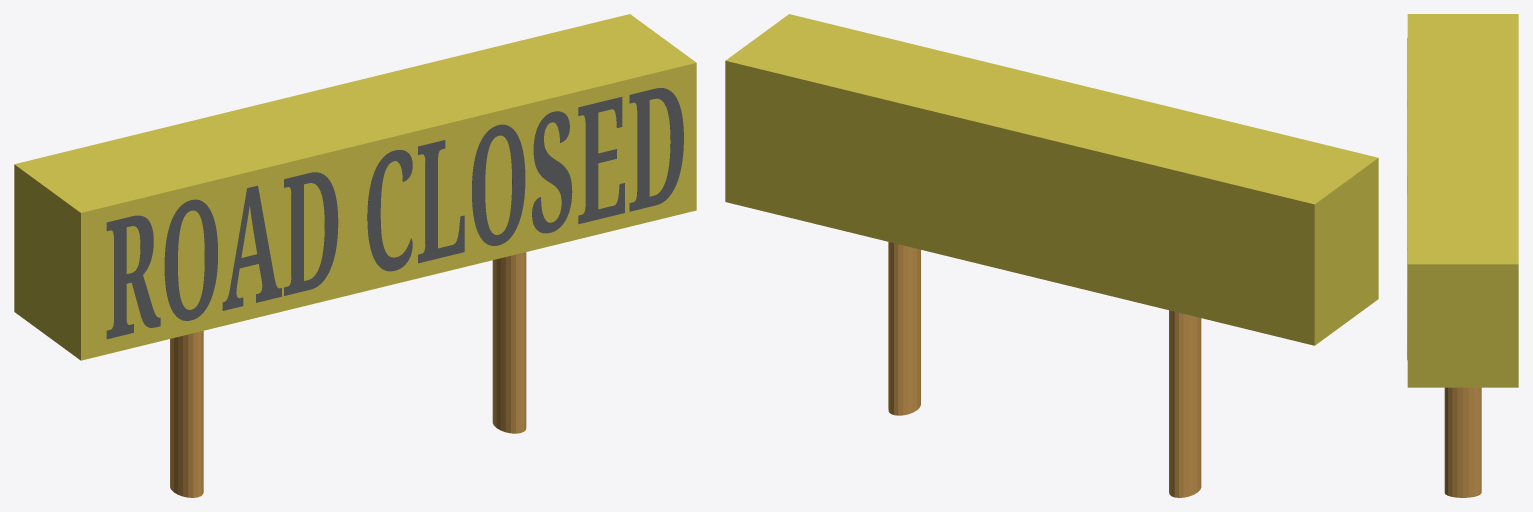
Rendered from obs.glb.
3 renders of one model, left to right at view 1: azimuth 30°, elevation 25°; view 2: azimuth 150°, elevation 25°; view 3: azimuth 270°, elevation 25°, orthographic. The views are drawn at different scales.
Visible parts, largest first — view 1: Mesh_Mesh_head_geo.001_lambert2SG.001; view 2: Mesh_Mesh_head_geo.001_lambert2SG.001; view 3: Mesh_Mesh_head_geo.001_lambert2SG.001.
Part boxes in pixels (x1,y1,x2,y2): Mesh_Mesh_head_geo.001_lambert2SG.001: [14, 14, 696, 497]; Mesh_Mesh_head_geo.001_lambert2SG.001: [725, 14, 1378, 497]; Mesh_Mesh_head_geo.001_lambert2SG.001: [1407, 14, 1518, 497].
Size of the model in its own units: 48 by 26 by 9.01.
